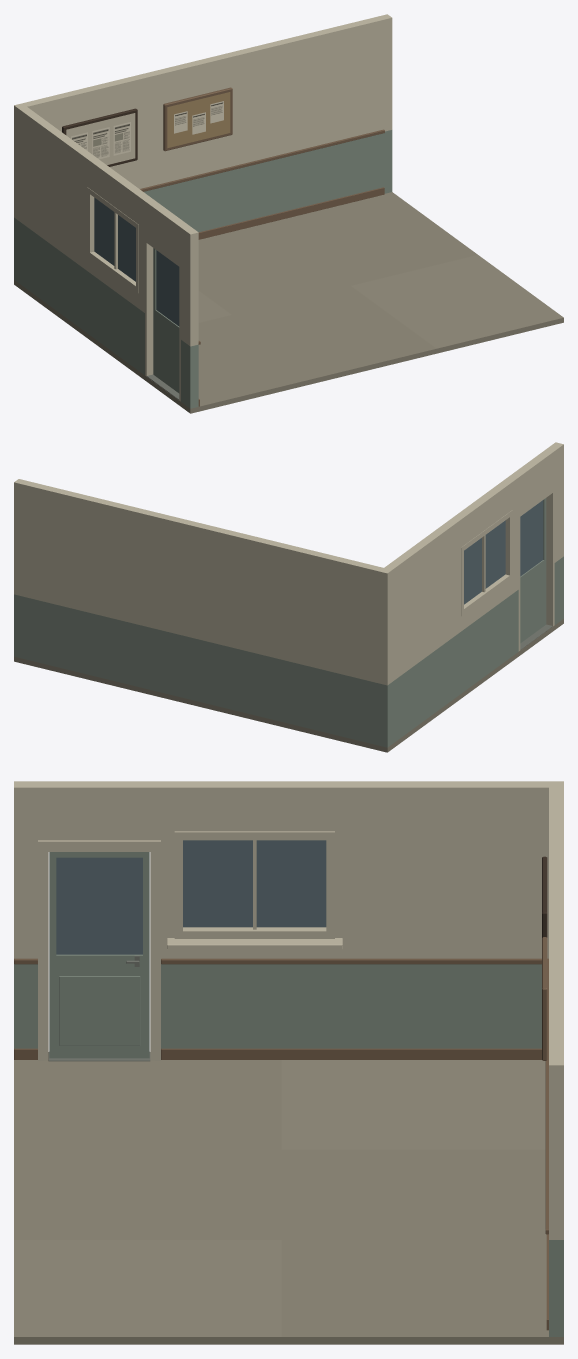
Rendered from Gazette_Architecture.fbx.
The picture shows the model from 3 angles, top to bottom: view 1: azimuth 30°, elevation 25°; view 2: azimuth 150°, elevation 25°; view 3: azimuth 270°, elevation 25°; orthographic projection. The views are drawn at different scales.
Visible parts, largest first — view 1: Gazette_Floor, Gazette_Back_Wall, Gazette_Left_Wall, Gazette_Window, Gazette_Entrance_Door, Gazette_Noticeboard, Gazette_Newspaper_Display, Gazette_Entrance_Frame, Gazette_Baseboards, Gazette_Wall_Trim; view 2: Gazette_Back_Wall, Gazette_Left_Wall, Gazette_Window, Gazette_Entrance_Door, Gazette_Floor, Gazette_Entrance_Frame; view 3: Gazette_Floor, Gazette_Left_Wall, Gazette_Entrance_Door, Gazette_Window, Gazette_Back_Wall, Gazette_Wall_Trim, Gazette_Baseboards, Gazette_Entrance_Frame, Gazette_Noticeboard.
Part boxes in pixels (x1,y1,x2,y2): Gazette_Floor: (14, 192, 563, 413); Gazette_Back_Wall: (14, 14, 392, 282); Gazette_Left_Wall: (18, 107, 198, 408); Gazette_Window: (87, 187, 138, 293); Gazette_Entrance_Door: (153, 248, 179, 393); Gazette_Noticeboard: (163, 87, 232, 151); Gazette_Newspaper_Display: (62, 108, 137, 166); Gazette_Entrance_Frame: (145, 239, 180, 401); Gazette_Baseboards: (198, 187, 384, 406); Gazette_Wall_Trim: (140, 129, 384, 344); Gazette_Back_Wall: (14, 479, 392, 747); Gazette_Left_Wall: (384, 442, 563, 743); Gazette_Window: (461, 510, 512, 615); Gazette_Entrance_Door: (520, 498, 546, 643); Gazette_Floor: (14, 619, 563, 752); Gazette_Entrance_Frame: (518, 489, 554, 651); Gazette_Floor: (14, 1060, 563, 1344); Gazette_Left_Wall: (14, 781, 548, 1048); Gazette_Entrance_Door: (49, 852, 149, 1058); Gazette_Window: (167, 831, 342, 949); Gazette_Back_Wall: (549, 781, 563, 1336); Gazette_Wall_Trim: (14, 840, 548, 1234); Gazette_Baseboards: (14, 1048, 548, 1330); Gazette_Entrance_Frame: (44, 849, 154, 1061); Gazette_Noticeboard: (542, 937, 547, 1060).
Bounding box in the file's own units: 6.29 × 2.88 × 5.14.
